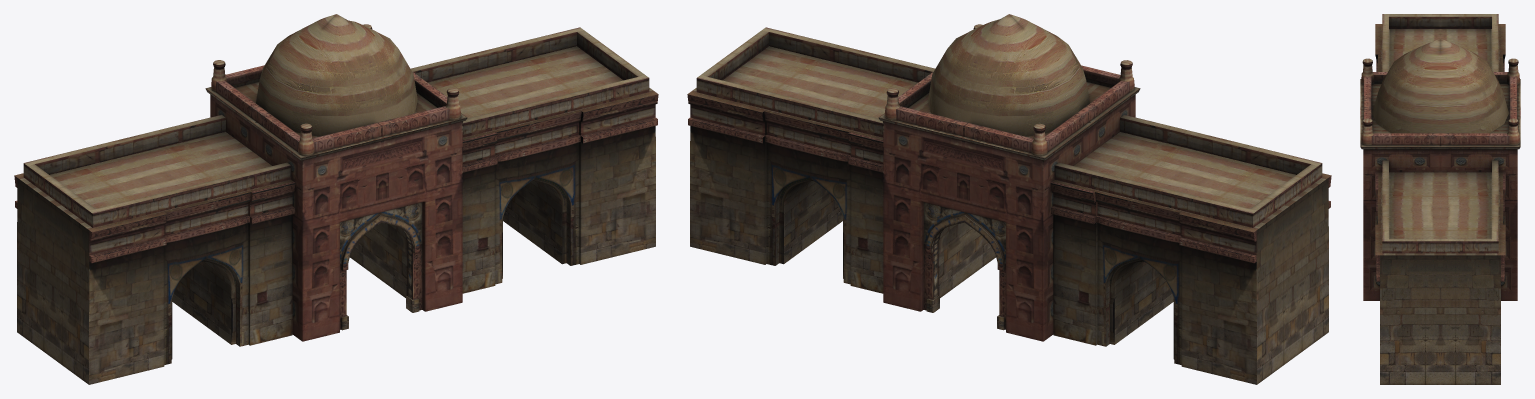
File: building4.fbx
The picture shows the model from 3 angles, left to right: view 1: azimuth 30°, elevation 25°; view 2: azimuth 150°, elevation 25°; view 3: azimuth 270°, elevation 25°; orthographic projection. The views are drawn at different scales.
Visible parts, largest first — view 1: U3DMesh; view 2: U3DMesh; view 3: U3DMesh.
Part boxes in pixels (left/top/right/bottom): U3DMesh: left=14, top=14, right=658, bottom=384; U3DMesh: left=687, top=14, right=1331, bottom=384; U3DMesh: left=1360, top=14, right=1520, bottom=384.
Size of the model in its own units: 1212 by 563 by 354.
